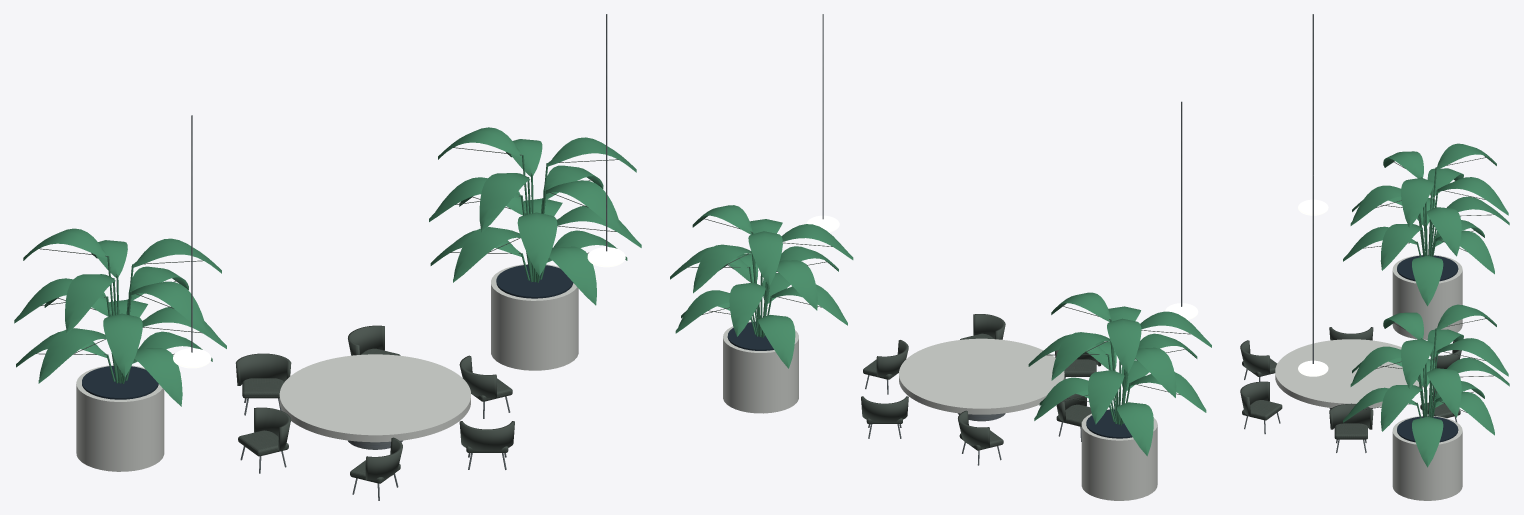
File: community.glb
The picture shows the model from 3 angles, left to right: view 1: azimuth 30°, elevation 25°; view 2: azimuth 150°, elevation 25°; view 3: azimuth 270°, elevation 25°; orthographic projection. The views are drawn at different scales.
Parts seen in each view (by area): view 1: Static_community; view 2: Static_community; view 3: Static_community.
Boxes of the visible parts, x1,y1,x2,y2 form: Static_community: [14, 14, 641, 500]; Static_community: [670, 14, 1211, 500]; Static_community: [1240, 14, 1509, 500].
Size of the model in its own units: 14.43 by 9 by 7.07.
Materials: 6 (2 with a texture image).
